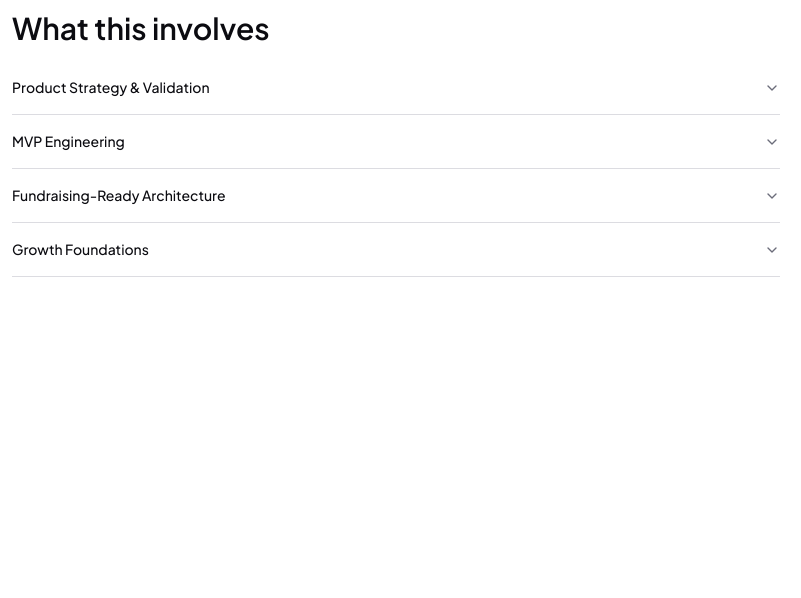
Test: CapabilityExplorer › expands a capability to reveal why/when/benefits/risks/timeline, and tracks it
The width and height of the screenshot is (801, 598).
Click the button "Product Strategy & Validation": [111, 87] box x1=12 y1=61 x2=780 y2=114
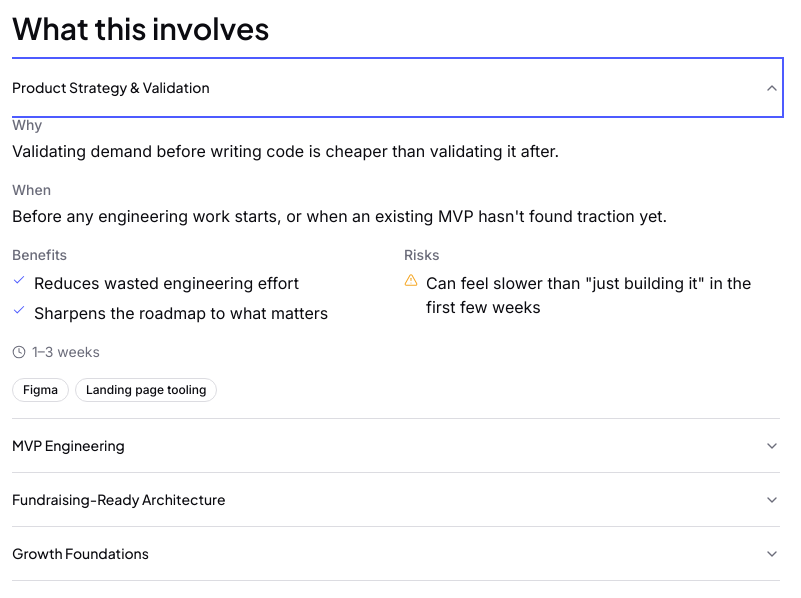
Check: the text "Validating demand before writing code is cheaper than validating it after." is shown, box x1=12 y1=141 x2=559 y2=161
Check: the text "Before any engineering work starts, or when an existing MVP hasn't found traction yet." is shown, box x1=12 y1=206 x2=667 y2=226
Check: the text "1–3 weeks" is shown, box x1=32 y1=341 x2=100 y2=362
